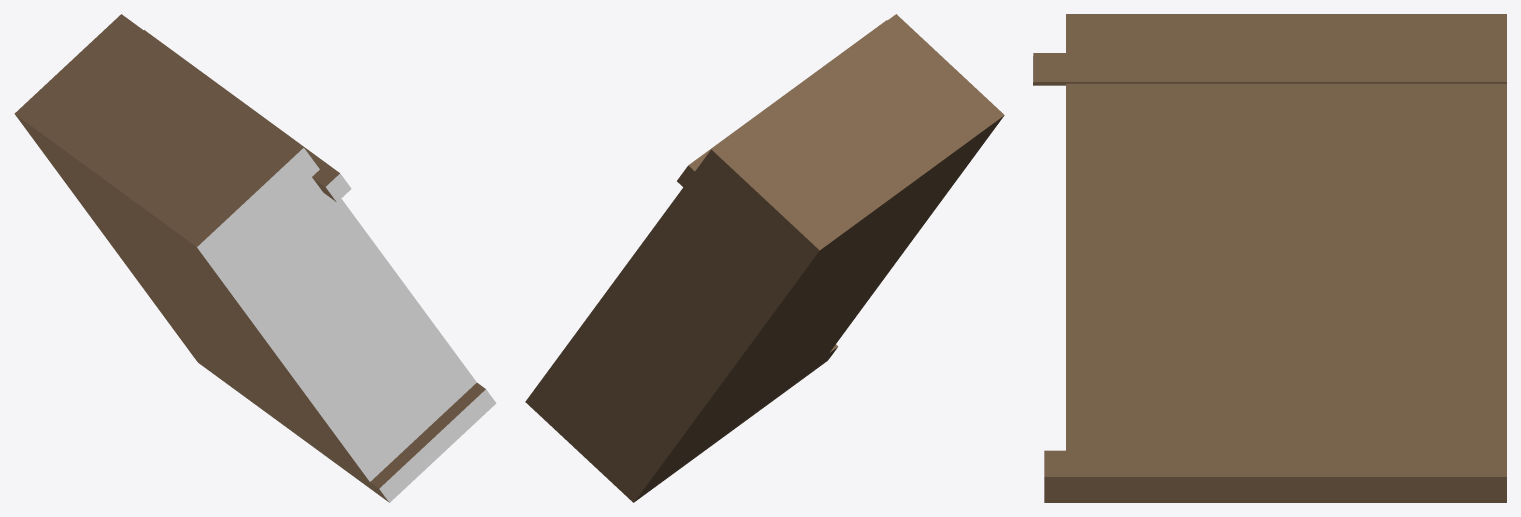
3 views of the same model, side by side, from view 1: azimuth 30°, elevation 25°; view 2: azimuth 150°, elevation 25°; view 3: azimuth 270°, elevation 25° (orthographic). The views are drawn at different scales.
Visible parts, largest first — view 1: City_1885317; view 2: City_1885317; view 3: City_1885317.
Boxes of the visible parts, x1=… form: City_1885317: x1=14, y1=14, x2=496, y2=502; City_1885317: x1=525, y1=14, x2=1004, y2=502; City_1885317: x1=1033, y1=14, x2=1506, y2=502.
Size of the model in its own units: 1244 by 1503 by 1454.
